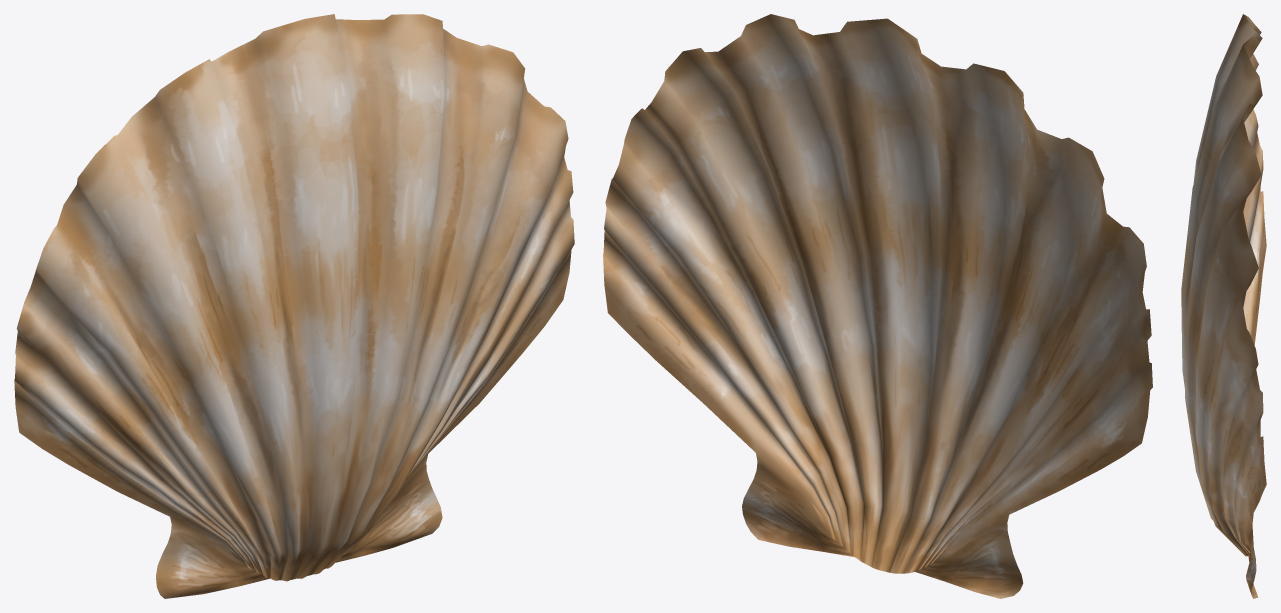
File: seashell9_edit_for_FBX.fbx
3 views of the same model, side by side, from view 1: azimuth 30°, elevation 25°; view 2: azimuth 150°, elevation 25°; view 3: azimuth 270°, elevation 25° (orthographic). The views are drawn at different scales.
Visible parts, largest first — view 1: seashell9; view 2: seashell9; view 3: seashell9.
Part boxes in pixels (x1=…): seashell9: x1=14, y1=14, x2=574, y2=598; seashell9: x1=603, y1=14, x2=1152, y2=598; seashell9: x1=1181, y1=14, x2=1266, y2=598.
Size of the model in its own units: 16177 by 15492 by 2378.
